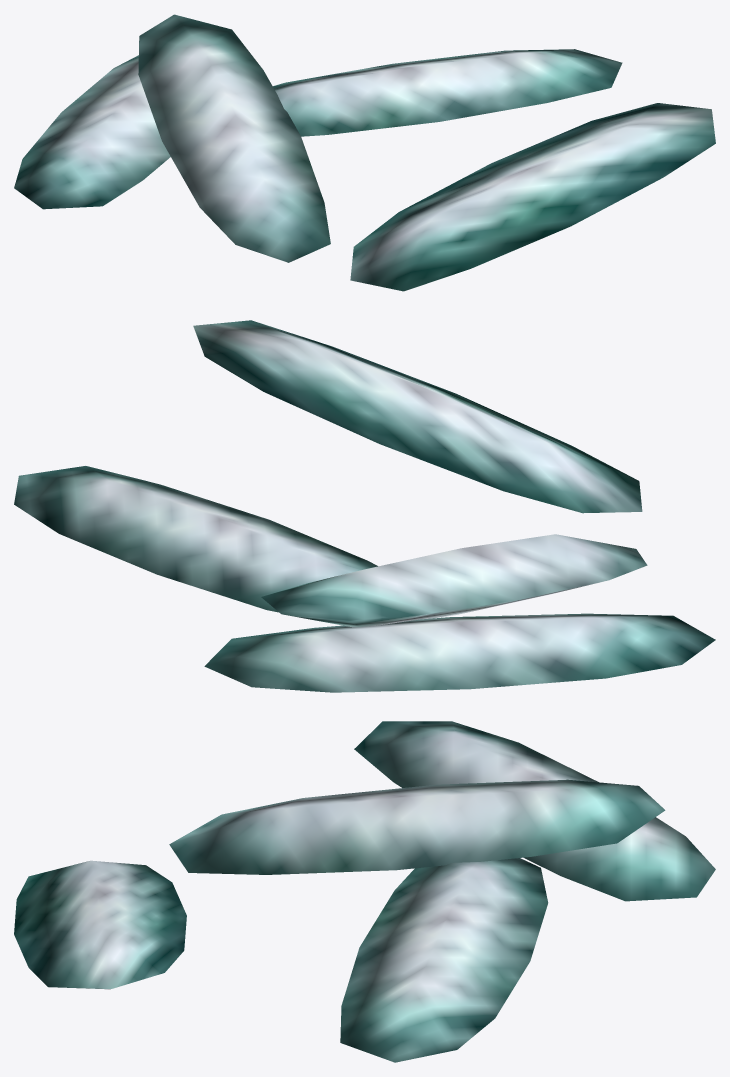
The model's file is KM_SEEDS_07.glb.
3 renders of one model, top to bottom at view 1: azimuth 30°, elevation 25°; view 2: azimuth 150°, elevation 25°; view 3: azimuth 270°, elevation 25°, orthographic. The views are drawn at different scales.
Visible parts, largest first — view 1: Mesh; view 2: Mesh; view 3: Mesh.
Part boxes in pixels (left/top/right/bottom): Mesh: left=14, top=14, right=715, bottom=291; Mesh: left=14, top=320, right=715, bottom=692; Mesh: left=14, top=721, right=715, bottom=1062.
Bounding box in the file's own units: 0.3483 × 0.0488 × 0.3026.
1 material, 1 textured.
